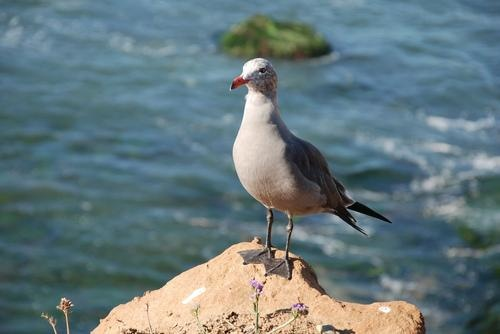bird: (226, 56, 393, 274)
